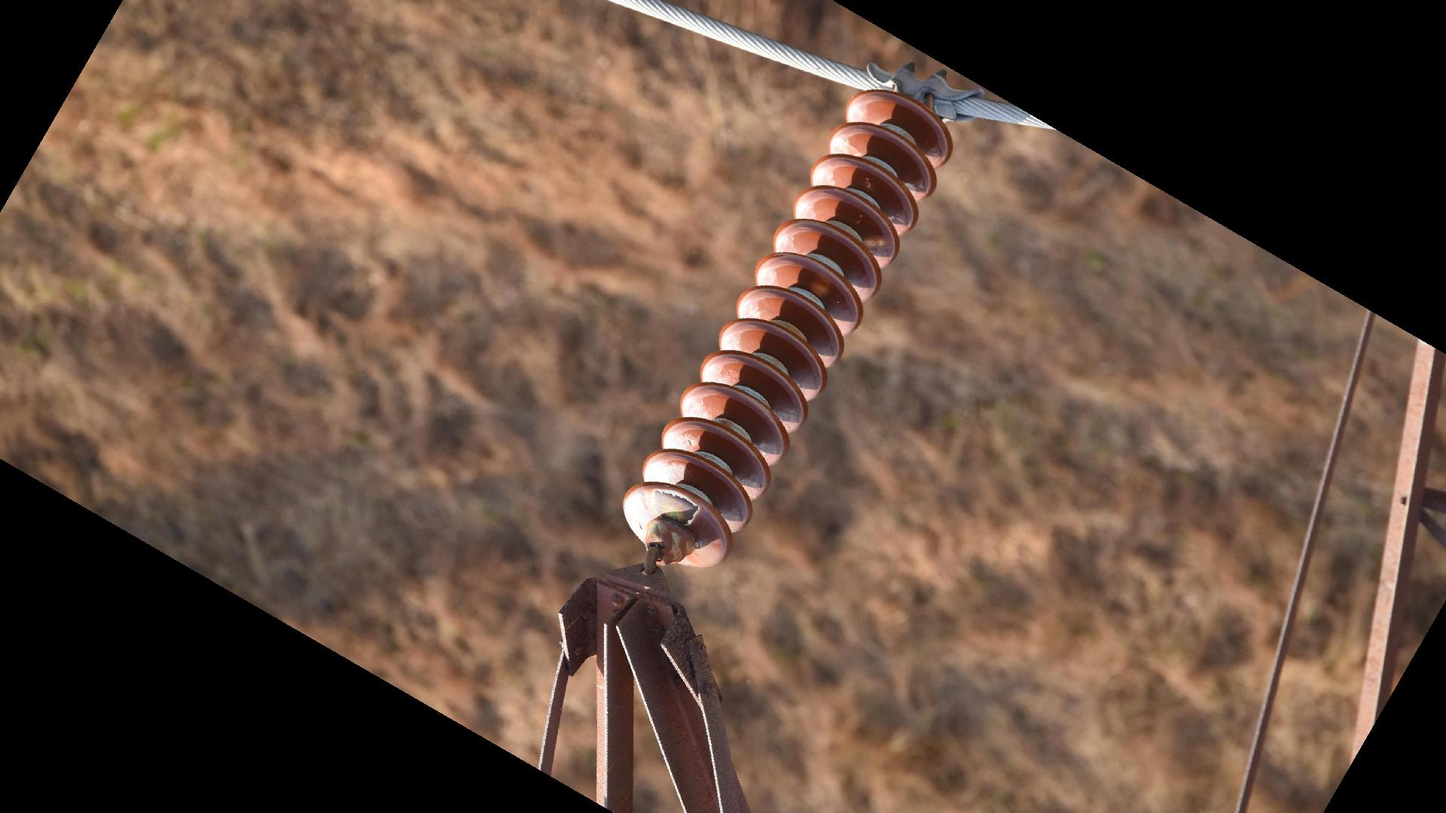insulator: (616, 83, 958, 575)
insulator_flashover: (650, 488, 699, 528), (862, 234, 890, 249)
